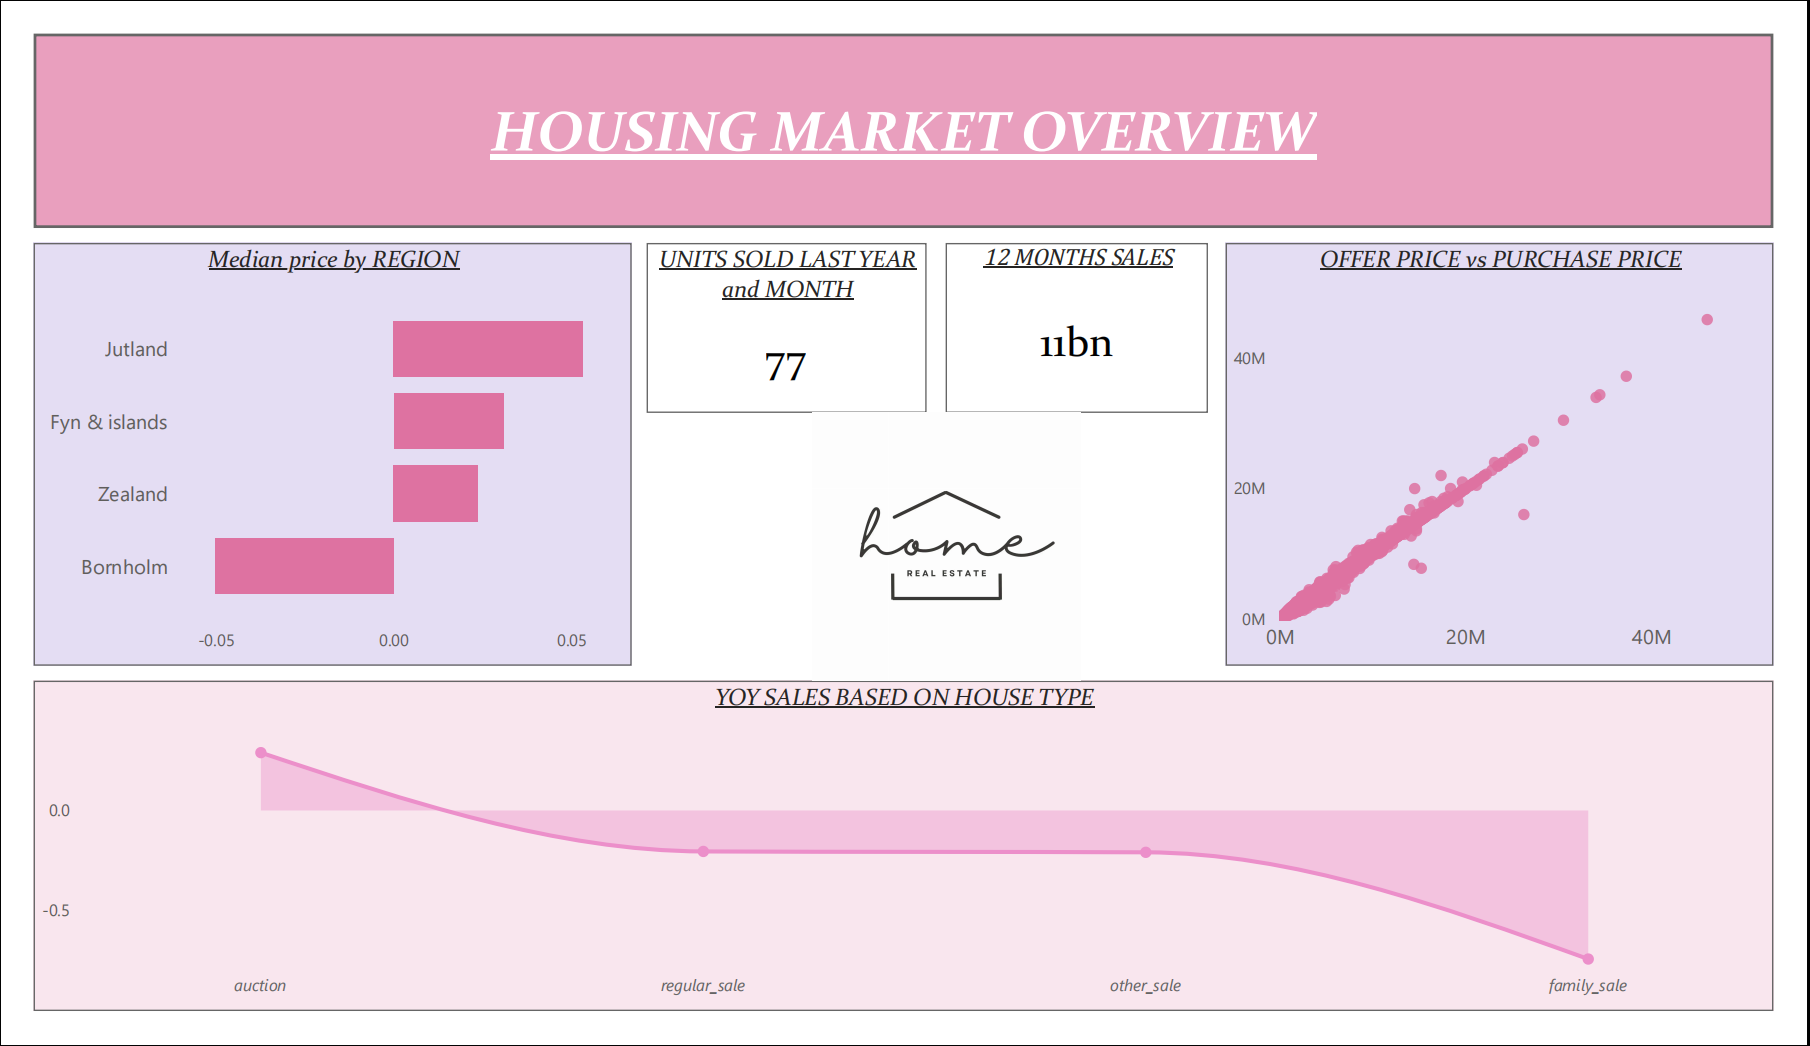

What the dashboard file says about the page in this screenshot:
{"tool":"powerbi","page":{"name":"HOUSE MARKET OVERVIEW","canvas":[1280,720],"ordinal":0},"visuals":[{"type":"lineChart","title":"YOY SALES BASED ON HOUSE TYPE","fields":{"Y":["DATA.YOY_sales_growth"],"Category":["DATA.SALES_TYPE"]},"box":[0,476.2,1280.3,242.9],"z":0},{"type":"scatterChart","title":"OFFER PRICE vs PURCHASE PRICE","fields":{"X":["DATA.OFFER_PRICE"],"Y":["DATA.PURCHASE_PRICE"]},"box":[876.8,153.7,403.4,311.5],"z":1000},{"type":"barChart","fields":{"Y":["DATA.MEDIAN PRICE"],"Category":["DATA.REGION"]},"box":[0,153.7,440.5,311.5],"z":2000},{"type":"cardVisual","title":"UNITS SOLD LAST YEAR and MONTH","fields":{"Data":["DATA.Total_Units_Latest_Quarter"]},"box":[451.5,153.7,205.8,124.9],"z":3000},{"type":"cardVisual","title":"12 MONTHS SALES","fields":{"Data":["DATA.LAST12_REVENUE"]},"box":[671,153.7,193.5,124.9],"z":4000},{"type":"shape","box":[0,0,1280.3,143.5],"z":5000},{"type":"image","box":[333.4,278.6,675.1,197.6],"z":6000}]}

Visuals, with their boxes in screenshot pixels (x1, y1, x2, y2), scaled from the page's 1280x720 canvas onto the 1810x1046 screenshot:
"YOY SALES BASED ON HOUSE TYPE" lineChart: [0, 692, 1809, 1045]
"OFFER PRICE vs PURCHASE PRICE" scatterChart: [1240, 223, 1809, 676]
barChart - DATA.MEDIAN PRICE x DATA.REGION: [0, 223, 623, 676]
"UNITS SOLD LAST YEAR and MONTH" cardVisual: [638, 223, 929, 405]
"12 MONTHS SALES" cardVisual: [949, 223, 1222, 405]
shape: [0, 0, 1809, 208]
image: [471, 405, 1426, 692]
